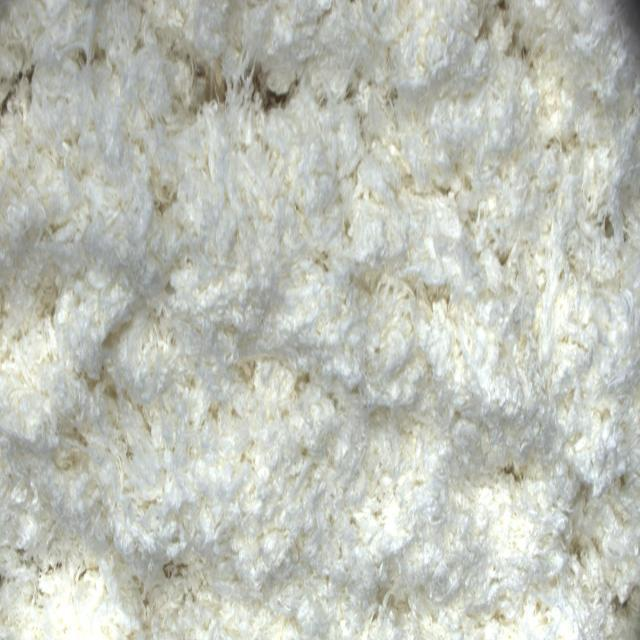dust: (242, 63, 293, 117)
